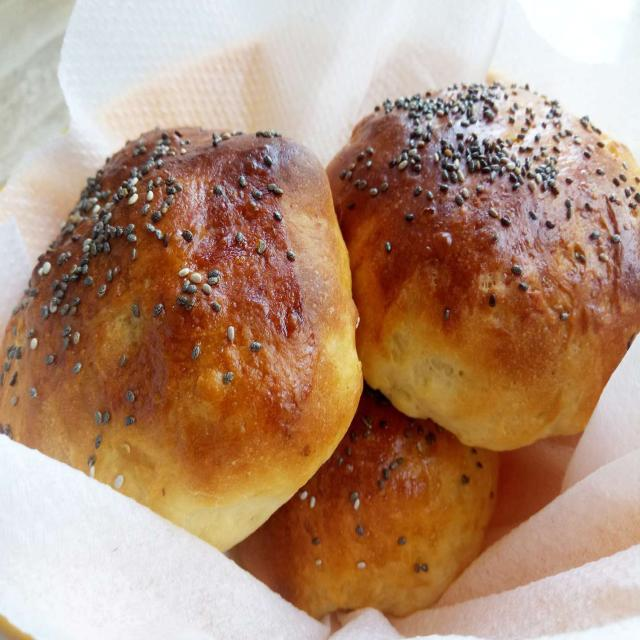Bun: (0, 112, 364, 561), (322, 75, 640, 460), (230, 421, 508, 626)
